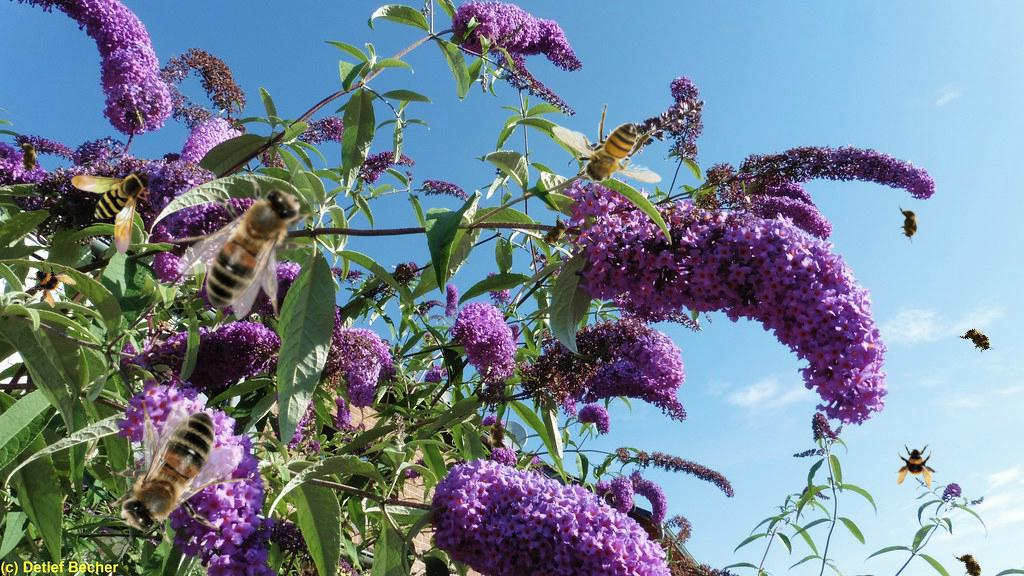Bee: (86, 400, 253, 562), (168, 158, 335, 320), (551, 103, 662, 197), (71, 168, 153, 256), (20, 250, 82, 312), (532, 210, 576, 256), (955, 318, 1001, 362), (895, 444, 939, 488), (951, 544, 991, 576), (487, 415, 509, 455), (898, 204, 920, 244), (17, 138, 39, 178)
